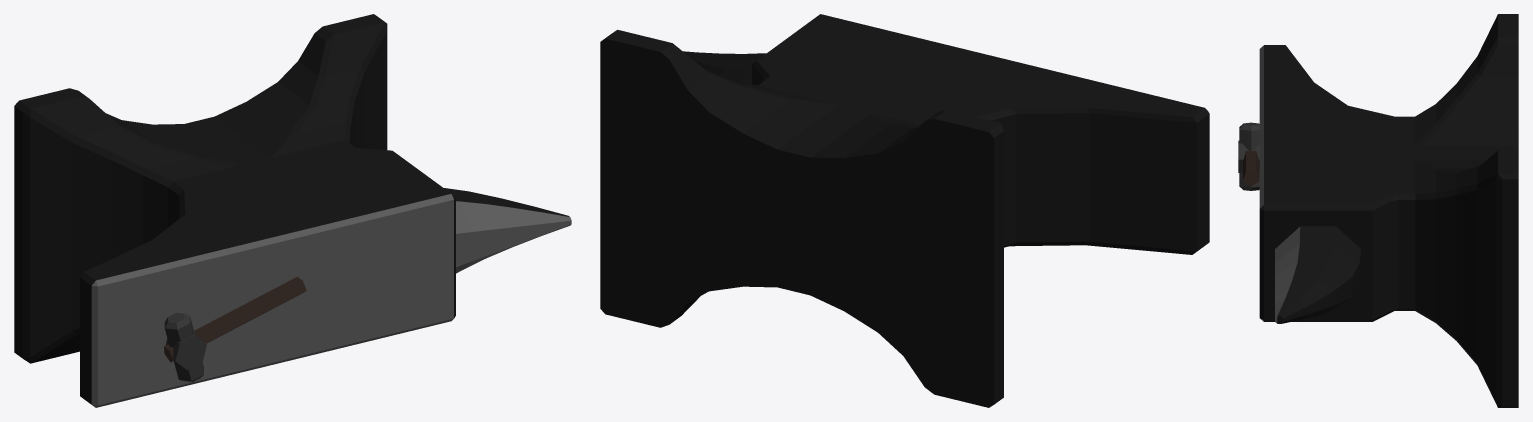
The model's file is Anvil.glb.
3 views of the same model, side by side, from view 1: azimuth 30°, elevation 25°; view 2: azimuth 150°, elevation 25°; view 3: azimuth 270°, elevation 25° (orthographic). The views are drawn at different scales.
Visible parts, largest first — view 1: Anvil; view 2: Anvil; view 3: Anvil.
Part boxes in pixels (x1=…): Anvil: x1=14, y1=14, x2=571, y2=407; Anvil: x1=600, y1=14, x2=1209, y2=407; Anvil: x1=1238, y1=14, x2=1518, y2=407.
Size of the model in its own units: 1.2 by 0.6 by 0.65.
1 material, 1 textured.
